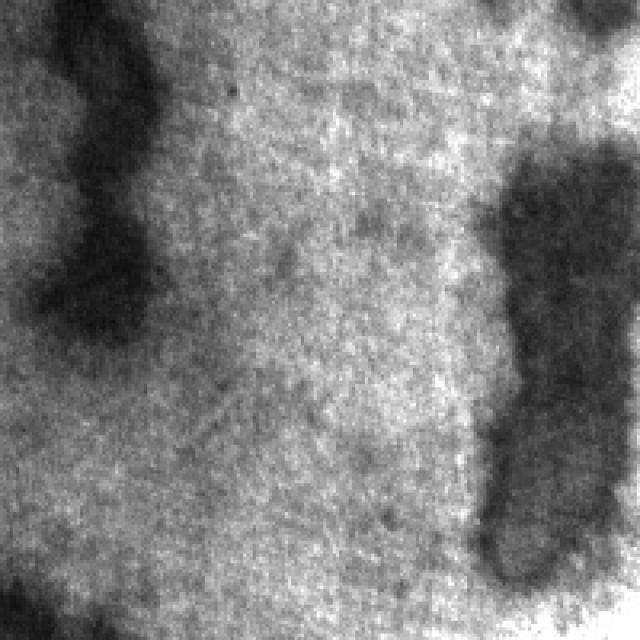patches: (477, 131, 640, 586), (35, 0, 176, 186), (35, 192, 170, 346), (3, 570, 102, 634), (554, 0, 640, 48)
